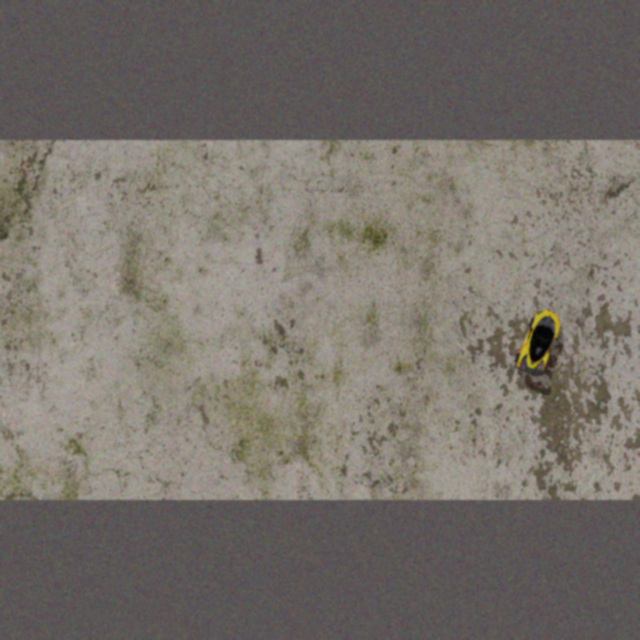car: (511, 304, 569, 378)
